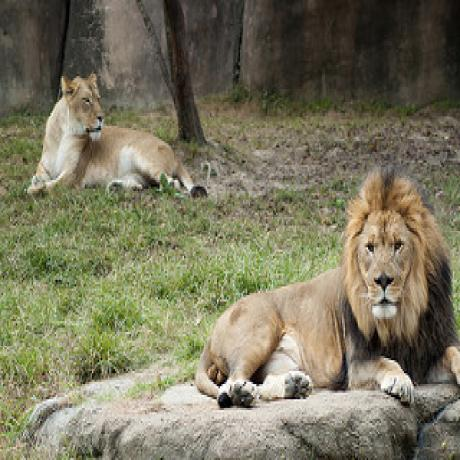Lion: (195, 163, 460, 411), (26, 61, 203, 205)
